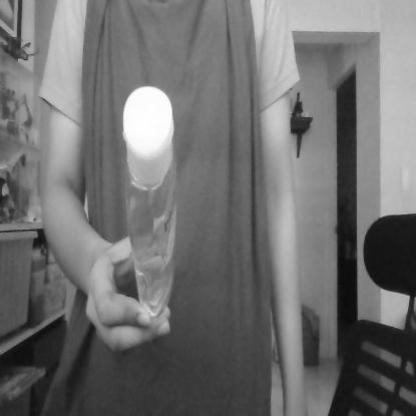Plastic Bottle: (119, 80, 180, 337)
